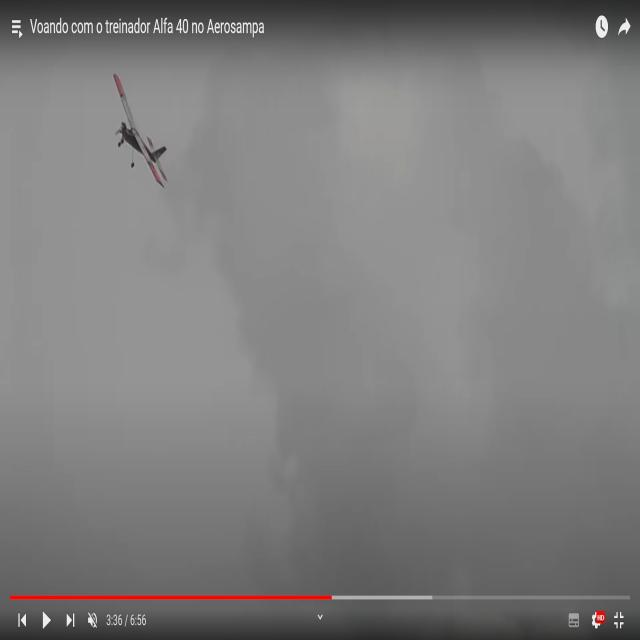iha: (105, 103, 162, 160)
